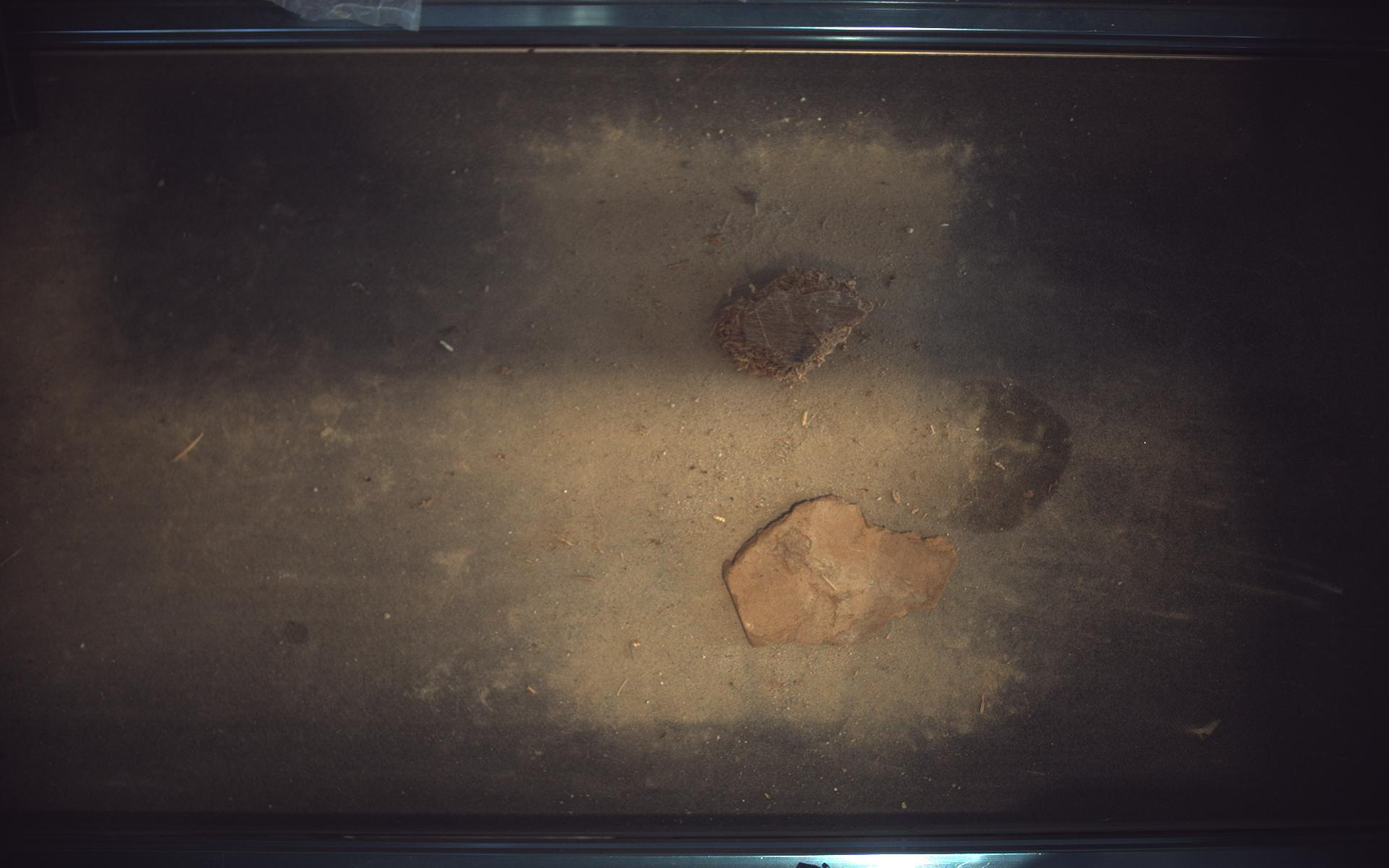wood: (725, 495, 958, 647), (717, 268, 874, 381)
